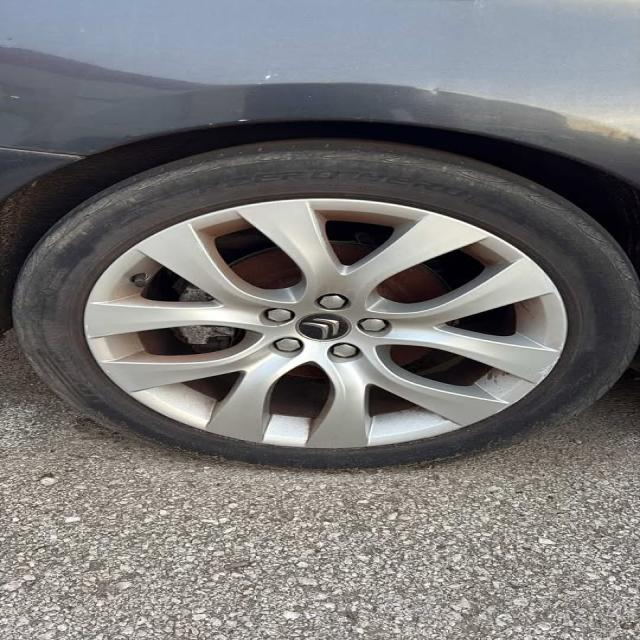jante: (83, 195, 571, 450)
parafuso: (257, 306, 298, 330), (320, 342, 367, 362), (310, 291, 350, 313), (271, 334, 302, 360), (356, 317, 394, 338)
roda: (10, 138, 640, 472)
